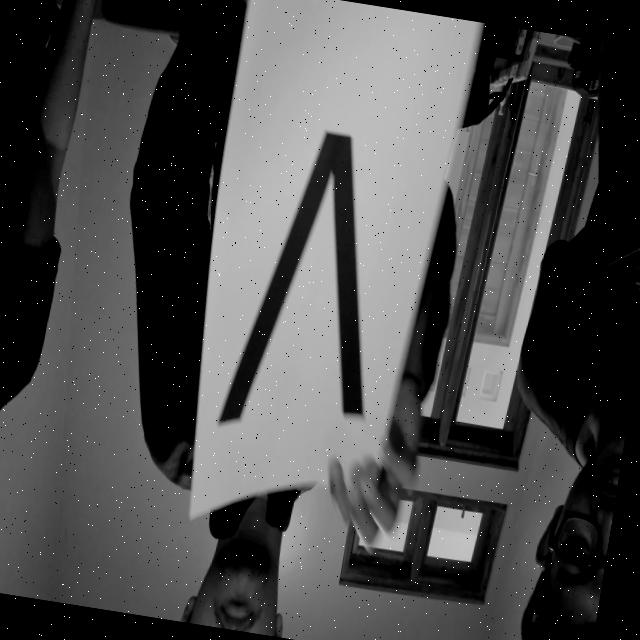v: (193, 82, 428, 450)
